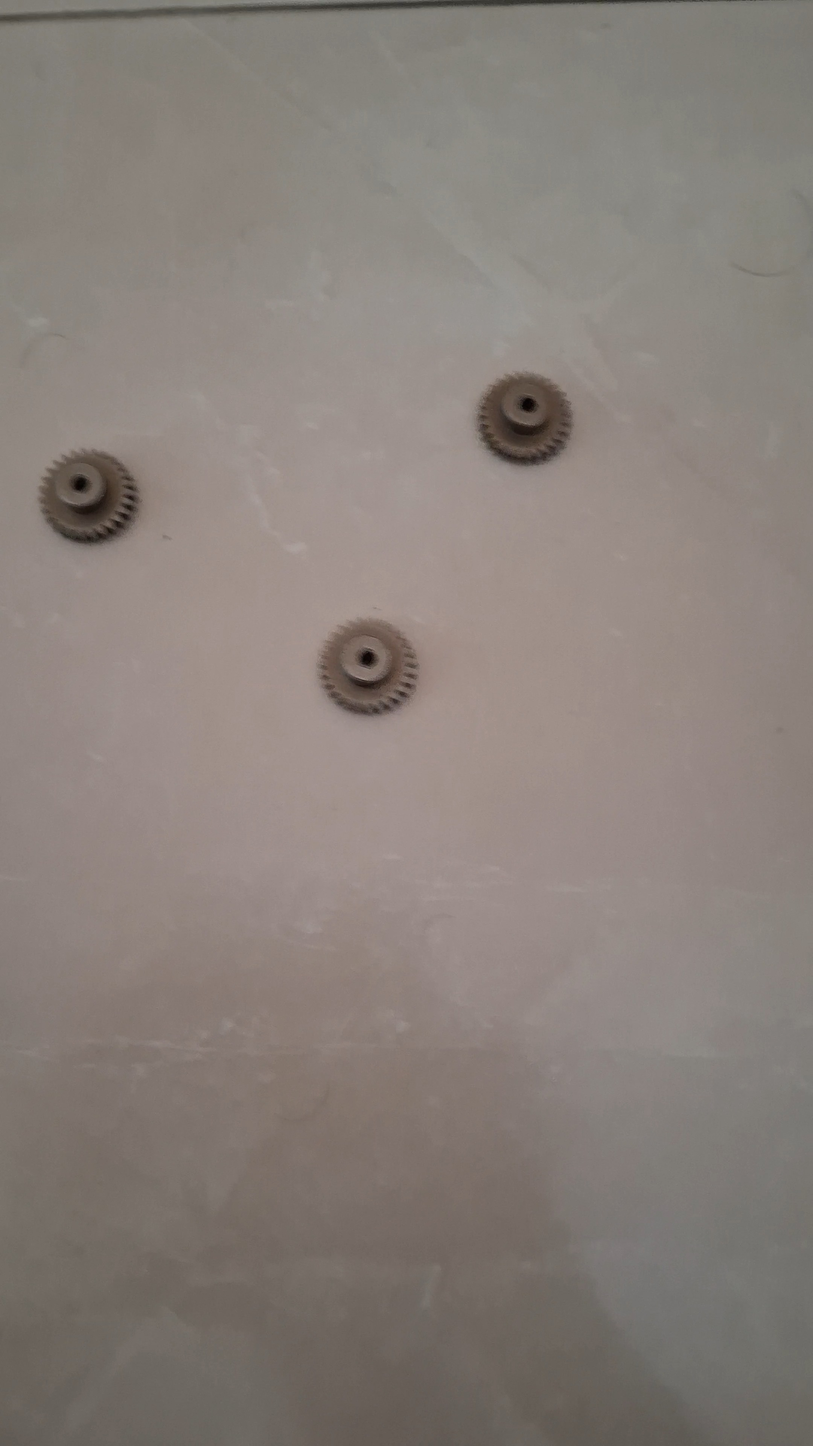spur gear: (319, 619, 418, 714), (40, 451, 138, 542), (478, 374, 572, 462)
